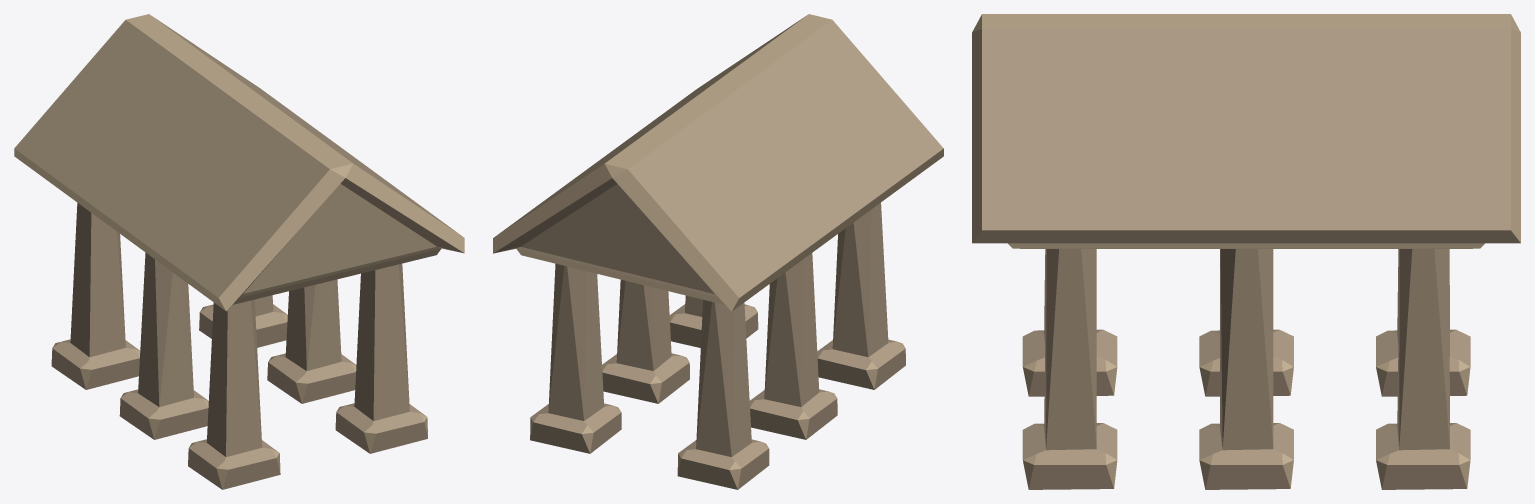
The model's file is RW_HG_Environment_Temple.001.fbx.
3 renders of one model, left to right at view 1: azimuth 30°, elevation 25°; view 2: azimuth 150°, elevation 25°; view 3: azimuth 270°, elevation 25°, orthographic. The views are drawn at different scales.
Visible parts, largest first — view 1: WW_HG_Environment_Temple.001; view 2: WW_HG_Environment_Temple.001; view 3: WW_HG_Environment_Temple.001.
Boxes of the visible parts, box(x1,y1,x2,y2) form: WW_HG_Environment_Temple.001: box(14, 14, 464, 489); WW_HG_Environment_Temple.001: box(493, 14, 943, 489); WW_HG_Environment_Temple.001: box(972, 14, 1520, 489).
Bounding box in the file's own units: 0.7742 × 0.9353 × 1.16.
